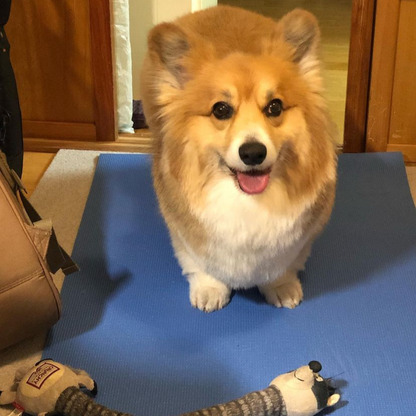Corgi: (128, 19, 354, 314)
